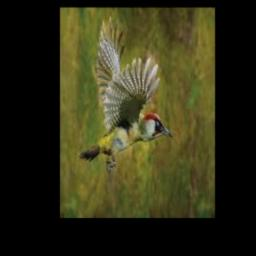Woodpecker: (78, 16, 173, 172)
